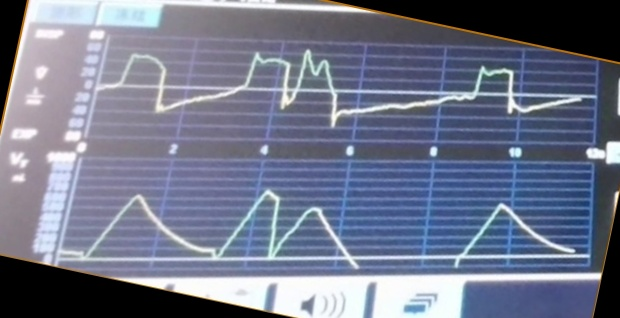Double_Triggering Flow: (108, 47, 543, 136)
Double_Triggering Volume: (75, 185, 565, 271)
